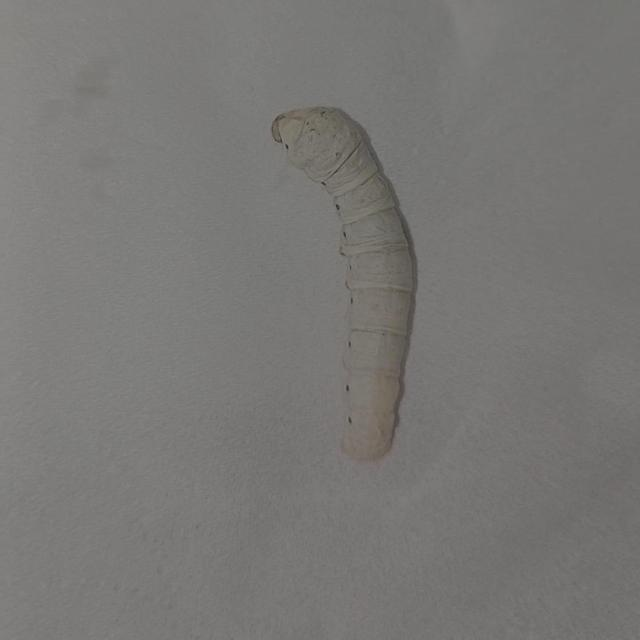Healthy: (265, 96, 428, 462)
